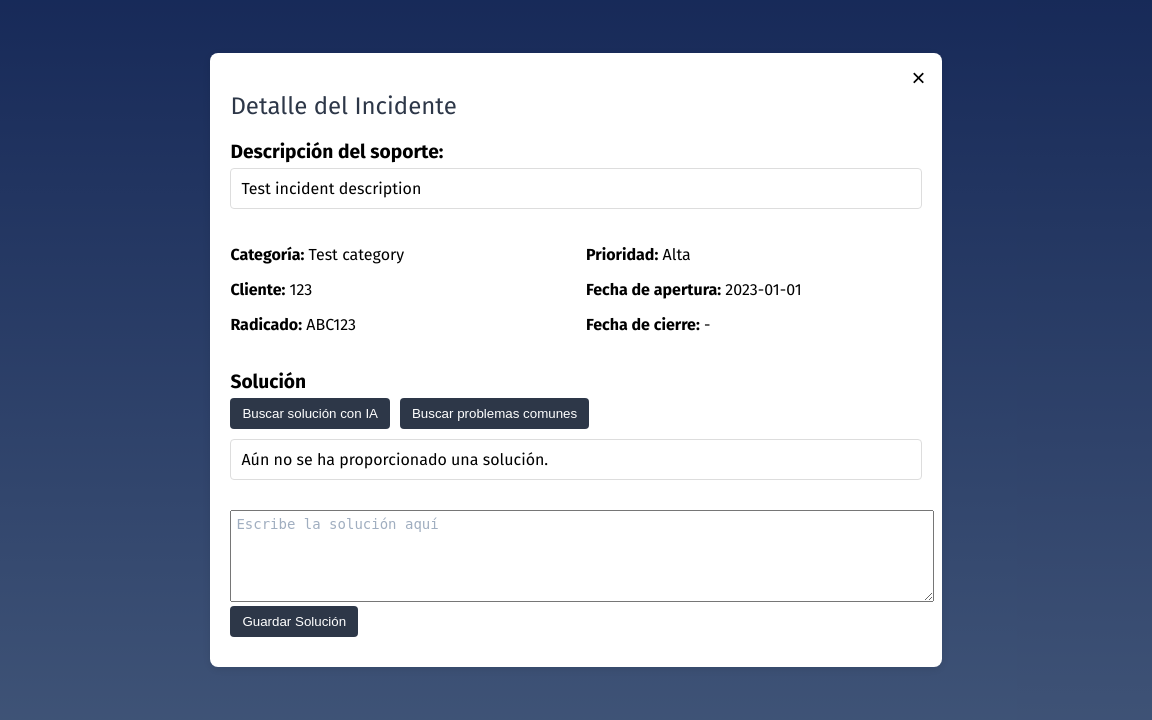
Scenario: DetailIncidentModal › shows error message when common issues fetch fails
Click the button "Buscar problemas comunes".
click(495, 414)  # box left=400, top=398, right=589, bottom=430
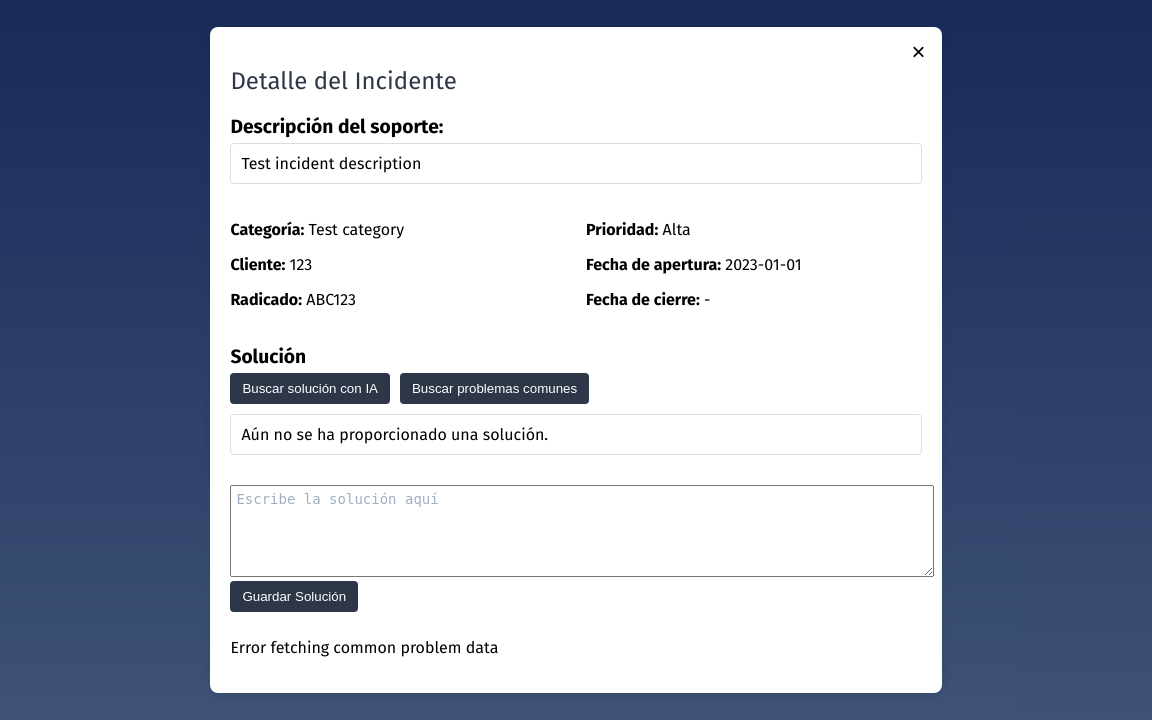
Result: the text "Error fetching common problem data" is shown at left=230, top=638, right=498, bottom=657
